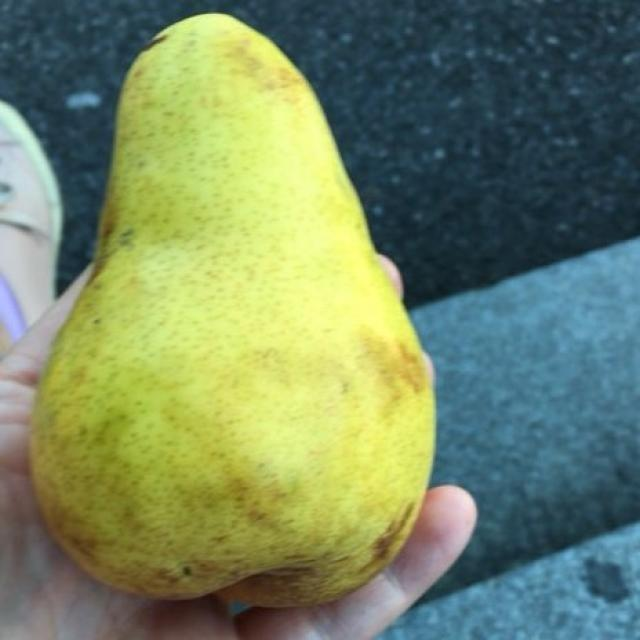pear: (31, 41, 427, 592)
